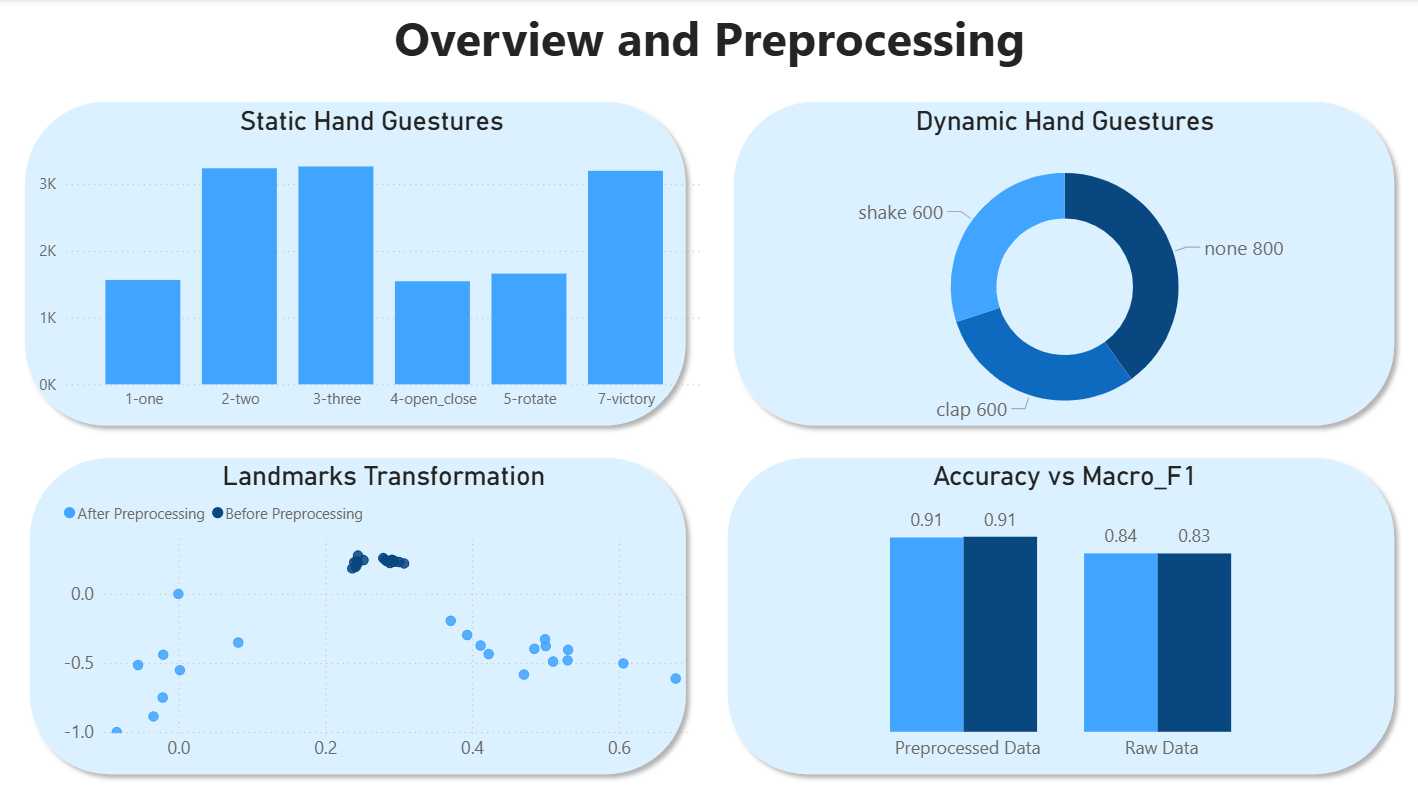

The page's visual inventory and layout, read from the dashboard file:
{"tool":"powerbi","page":{"name":"Overview","canvas":[1280,720],"ordinal":0},"visuals":[{"type":"shape","box":[18.1,404.9,609.4,303.3],"z":0,"group":"g1"},{"type":"group","id":"g1","title":"Group 1","box":[13.9,83.5,1252.2,624.7],"z":500},{"type":"donutChart","title":"Dynamic Hand Guestures","fields":{"Y":["Sum(gru_data_balance.Count)"],"Category":["gru_data_balance.Label"]},"box":[640,96,640,300.5],"z":1000},{"type":"shape","box":[646.9,404.9,619.1,303.3],"z":1000,"group":"g1"},{"type":"shape","box":[652.5,83.5,613.6,310.3],"z":2000,"group":"g1"},{"type":"clusteredColumnChart","title":"Static Hand Guestures","fields":{"Y":["Sum(data_balance.Count)"],"Category":["data_balance.Label"]},"box":[30.6,96,609.4,283.8],"z":2000},{"type":"shape","box":[13.9,83.5,613.6,310.3],"z":3000,"group":"g1"},{"type":"scatterChart","title":"Landmarks Transformation","fields":{"X":["Sum(hand_joints_vis.X)"],"Y":["Sum(hand_joints_vis.Y)"],"Series":["hand_joints_vis.State"],"Category":["hand_joints_vis.Joint"]},"box":[51.5,416,588.5,281],"z":3000},{"type":"clusteredColumnChart","title":"Accuracy vs Macro_F1","fields":{"Category":["preprocessing_impact.DataType"],"Y":["Sum(preprocessing_impact.Accuracy)","Sum(preprocessing_impact.Macro_F1)"]},"box":[640,416,640,281],"z":4000},{"type":"textbox","box":[0,0,1280,83.5],"z":5000}]}

Visuals, with their boxes in screenshot pixels (x1, y1, x2, y2), scaled from the page's 1280x720 canvas onto the 1418x797 screenshot:
shape: {"x1": 20, "y1": 448, "x2": 695, "y2": 784}
"Group 1" group: {"x1": 15, "y1": 92, "x2": 1403, "y2": 784}
"Dynamic Hand Guestures" donutChart: {"x1": 709, "y1": 106, "x2": 1417, "y2": 439}
shape: {"x1": 717, "y1": 448, "x2": 1402, "y2": 784}
shape: {"x1": 723, "y1": 92, "x2": 1403, "y2": 436}
"Static Hand Guestures" clusteredColumnChart: {"x1": 34, "y1": 106, "x2": 709, "y2": 420}
shape: {"x1": 15, "y1": 92, "x2": 695, "y2": 436}
"Landmarks Transformation" scatterChart: {"x1": 57, "y1": 460, "x2": 709, "y2": 772}
"Accuracy vs Macro_F1" clusteredColumnChart: {"x1": 709, "y1": 460, "x2": 1417, "y2": 772}
textbox: {"x1": 0, "y1": 0, "x2": 1417, "y2": 92}
